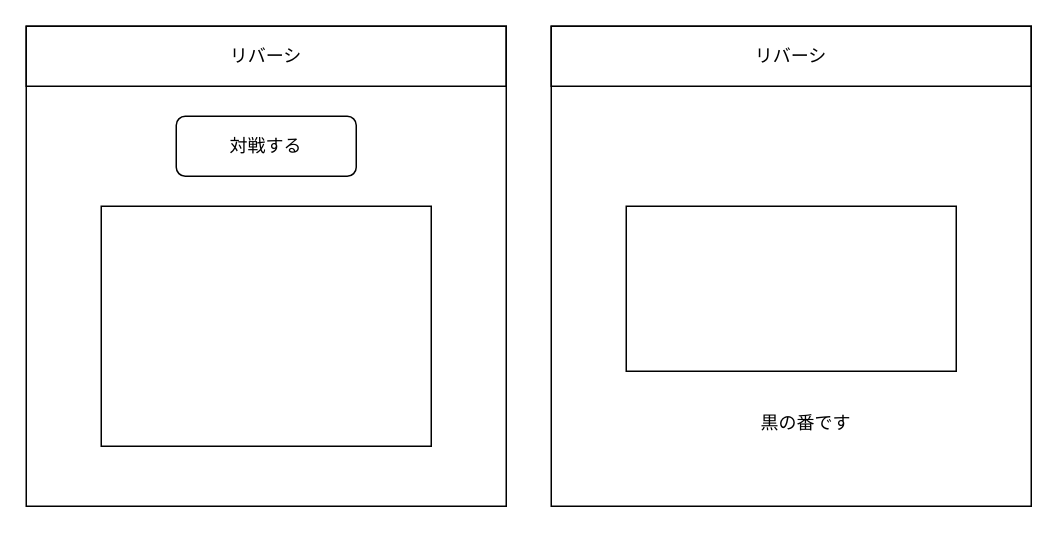
This 1058x533 diagram has some shape labels left out. The shapes that lost their labels are listed below. From the top down, each one's centre as x and y in pixels, then its label:
At point (790, 288): "盤面".
At point (265, 325): "過去の対戦結果".
